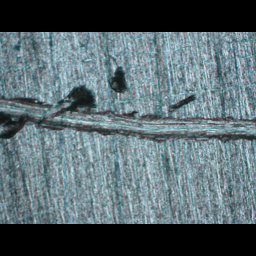d: (0, 59, 256, 152)
